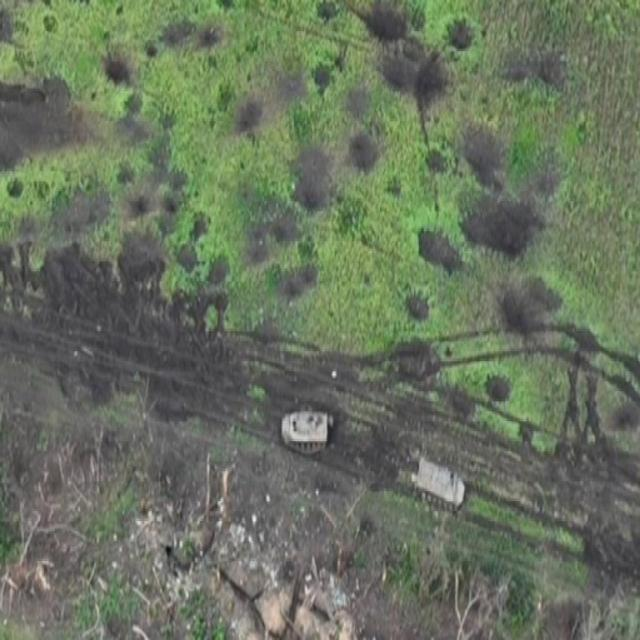APC-IFV: (272, 398, 332, 462), (409, 451, 465, 513)
